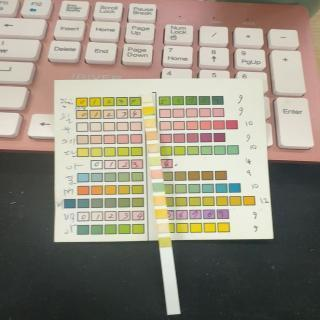mark: (144, 118, 156, 128), (153, 196, 165, 206), (153, 183, 164, 193), (156, 210, 167, 220), (159, 238, 170, 248), (148, 132, 158, 142), (148, 144, 158, 154), (150, 157, 160, 167), (144, 94, 154, 103), (144, 107, 154, 116), (152, 170, 162, 178), (158, 225, 168, 232)
